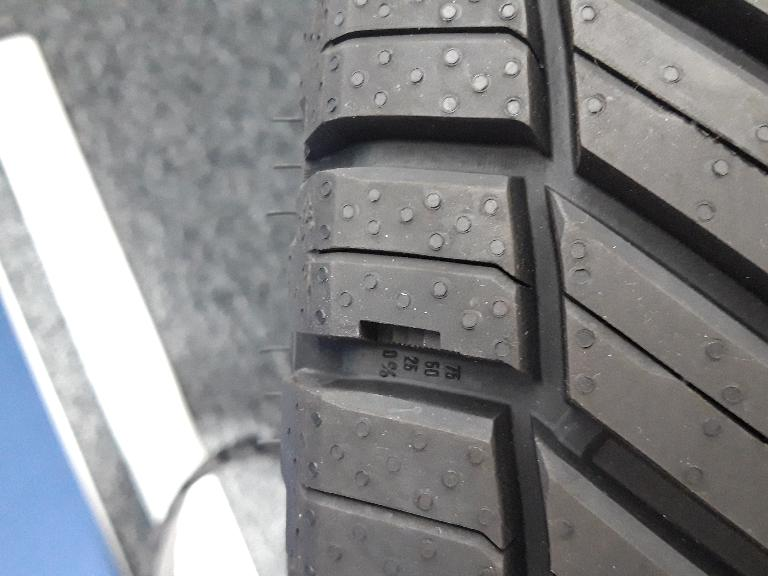temoin:100: (358, 319, 458, 359)
